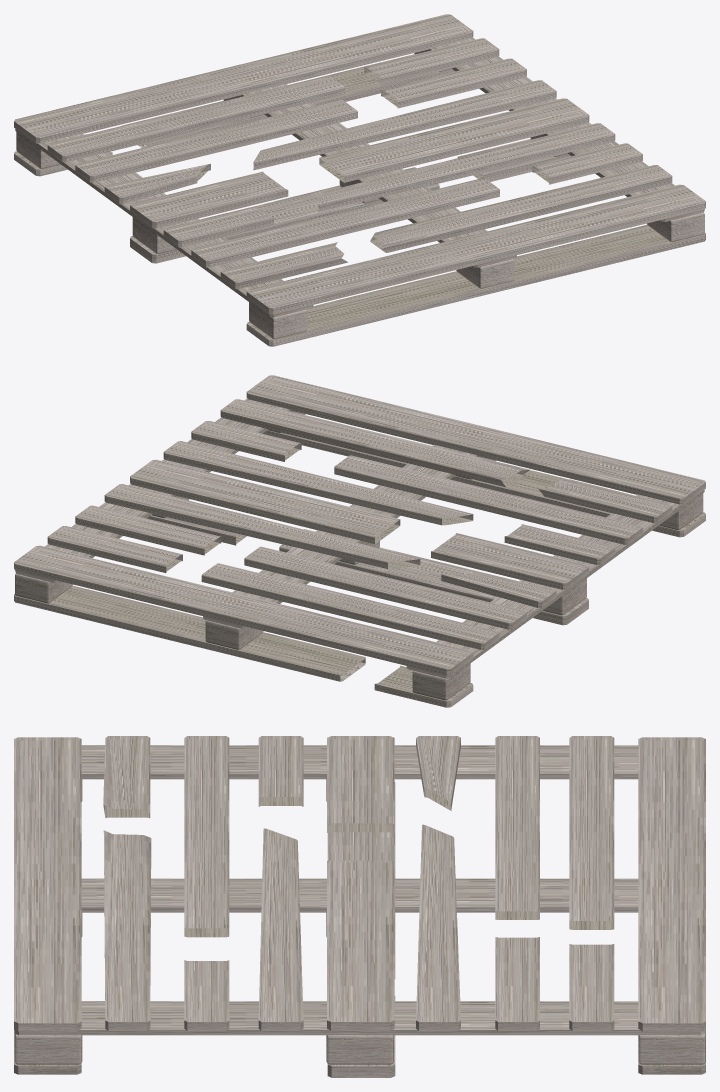
Rendered from PalettesBroken.fbx.
3 views of the same model, one above another, from view 1: azimuth 30°, elevation 25°; view 2: azimuth 150°, elevation 25°; view 3: azimuth 270°, elevation 25° (orthographic). The views are drawn at different scales.
Visible parts, largest first — view 1: Palette5; view 2: Palette5; view 3: Palette5.
Boxes of the visible parts, x1=… form: Palette5: x1=14, y1=14, x2=705, y2=346; Palette5: x1=14, y1=375, x2=705, y2=707; Palette5: x1=14, y1=736, x2=705, y2=1077.
Bounding box in the file's own units: 10 × 0.9102 × 10.23.
Materials: 1 (1 with a texture image).
